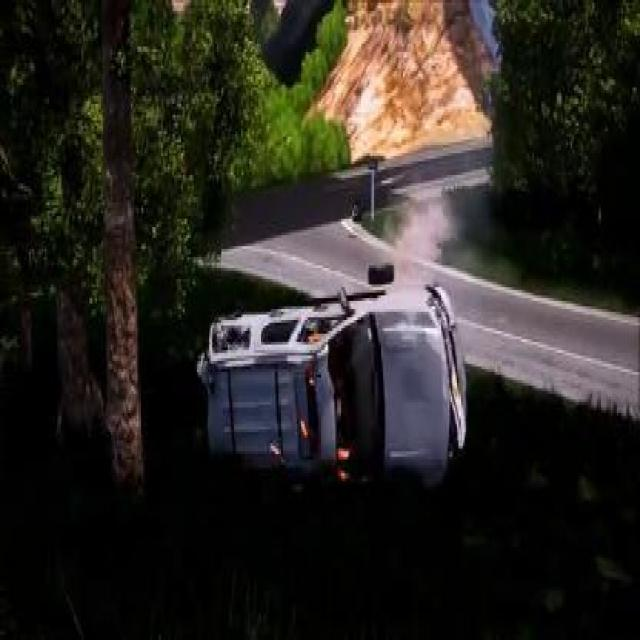accident: (195, 269, 473, 480)
